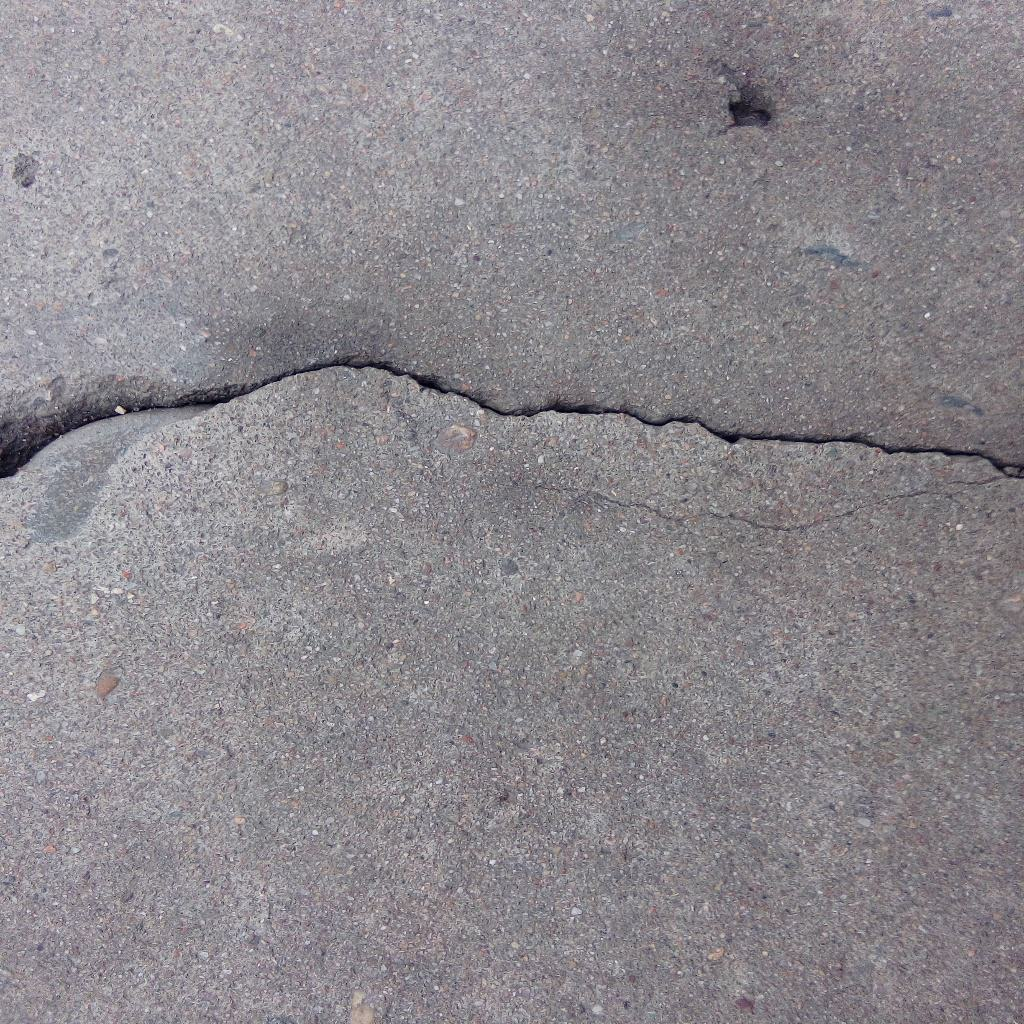Crack: (1, 357, 1024, 482), (562, 475, 1007, 533)
